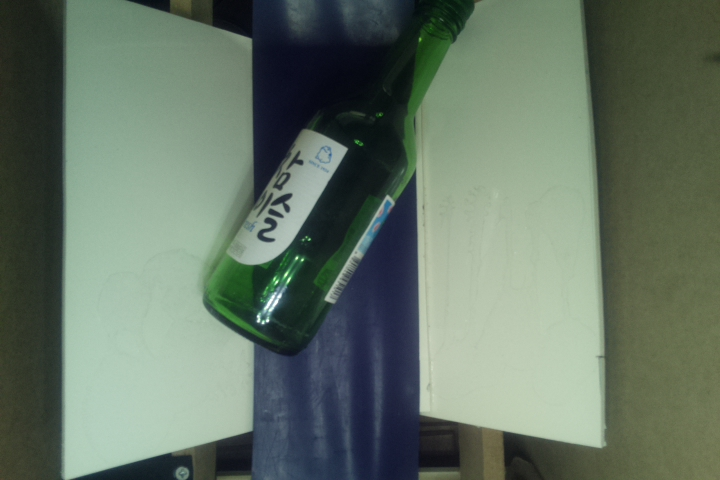soju: (203, 1, 476, 355)
